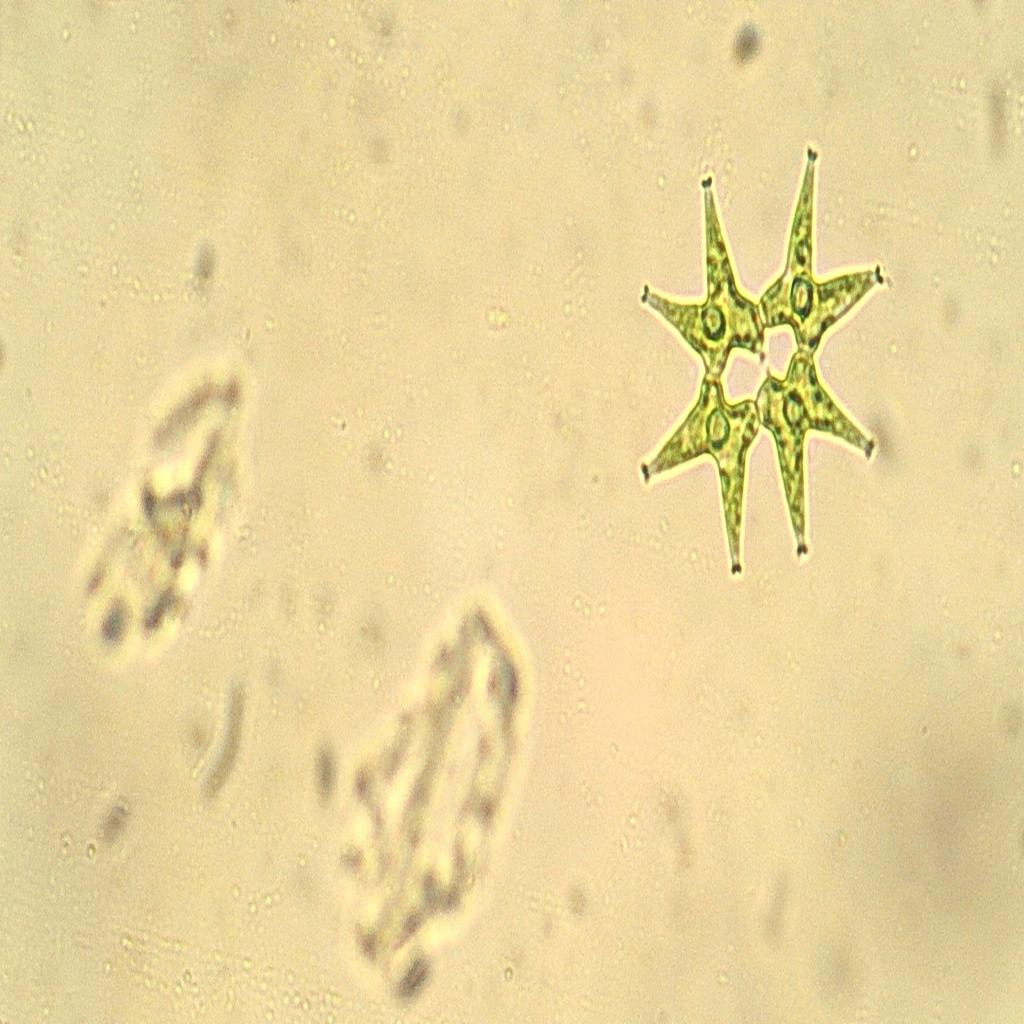Pediastrum_CF: (613, 133, 916, 587)
